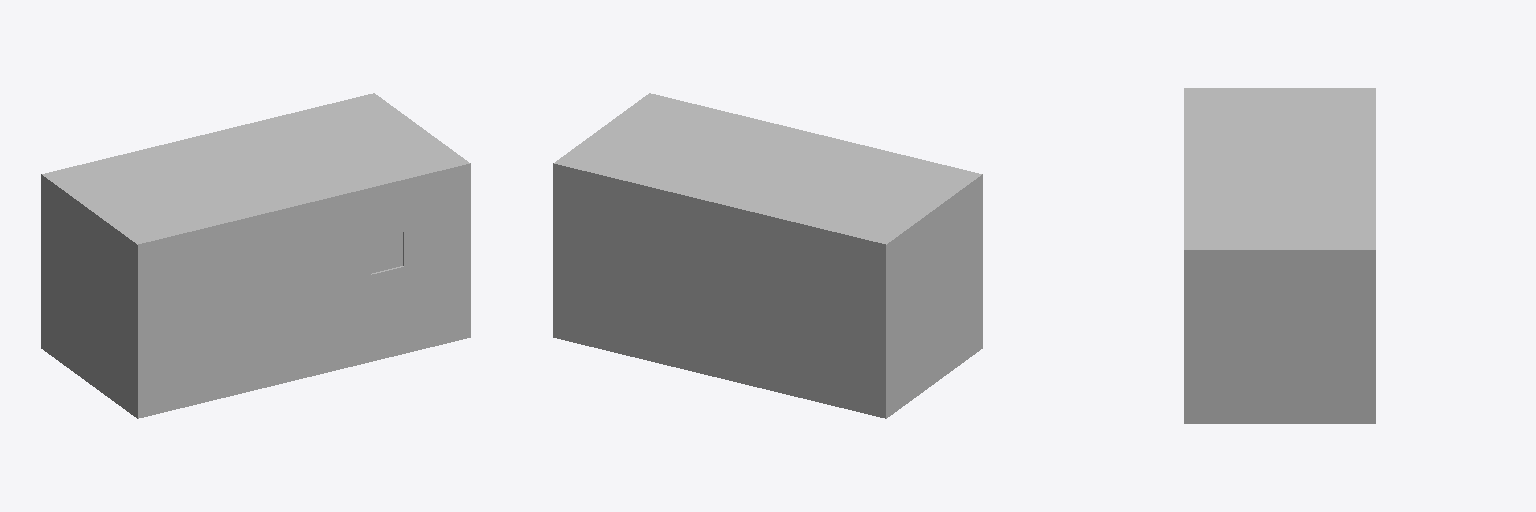
File: window.obj
3 renders of one model, left to right at view 1: azimuth 30°, elevation 25°; view 2: azimuth 150°, elevation 25°; view 3: azimuth 270°, elevation 25°, orthographic.
Visible parts, largest first — view 1: Cube_Cube.003, Cube.001_Cube.006; view 2: Cube_Cube.003; view 3: Cube_Cube.003.
Part boxes in pixels (bbox=[...]): Cube_Cube.003: bbox=[41, 93, 470, 418]; Cube.001_Cube.006: bbox=[371, 232, 402, 273]; Cube_Cube.003: bbox=[553, 93, 982, 418]; Cube_Cube.003: bbox=[1184, 88, 1375, 423].
Bounding box in the file's own units: 4 × 2 × 2.